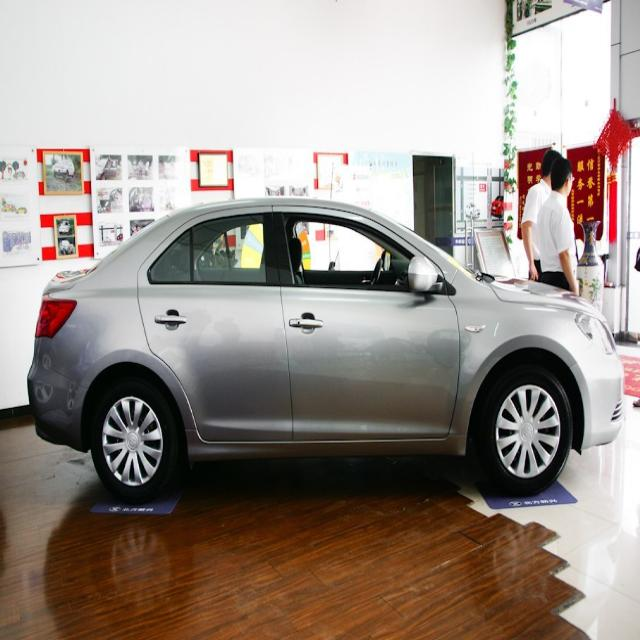back_right_side_light: (34, 294, 78, 340)
door: (136, 202, 297, 458)
front_bumper: (568, 339, 625, 458)
front_right_side_door: (270, 202, 462, 445)
front_right_side_light: (573, 308, 617, 356)
front_right_side_mirror: (406, 253, 444, 296)
rear_bumper: (26, 334, 92, 456)
wheel: (482, 363, 573, 499), (90, 383, 176, 507)
